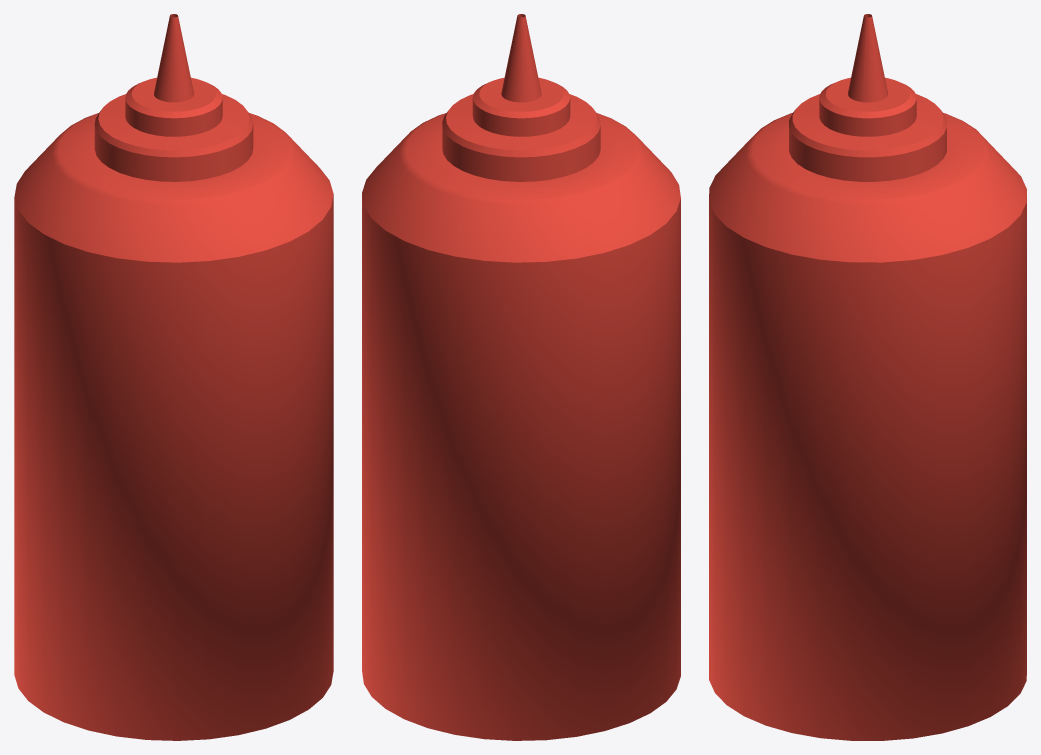
Rendered from Small Ketchup.fbx.
The picture shows the model from 3 angles, left to right: view 1: azimuth 30°, elevation 25°; view 2: azimuth 150°, elevation 25°; view 3: azimuth 270°, elevation 25°; orthographic projection.
Parts seen in each view (by area): view 1: Banana Ketchup Sauce; view 2: Banana Ketchup Sauce; view 3: Banana Ketchup Sauce.
Part boxes in pixels (bbox=[...]): Banana Ketchup Sauce: bbox=[14, 14, 333, 740]; Banana Ketchup Sauce: bbox=[362, 14, 680, 740]; Banana Ketchup Sauce: bbox=[709, 14, 1026, 740].
Bounding box in the file's own units: 7.78 × 17.77 × 7.78.
